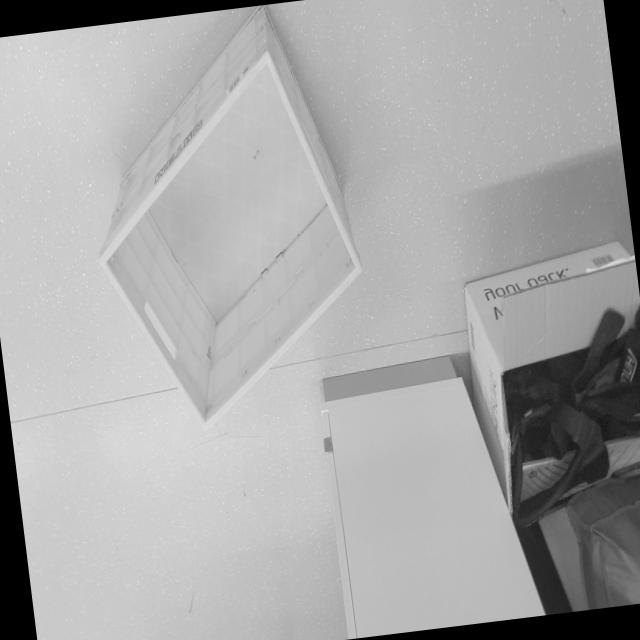box: (58, 0, 383, 449)
